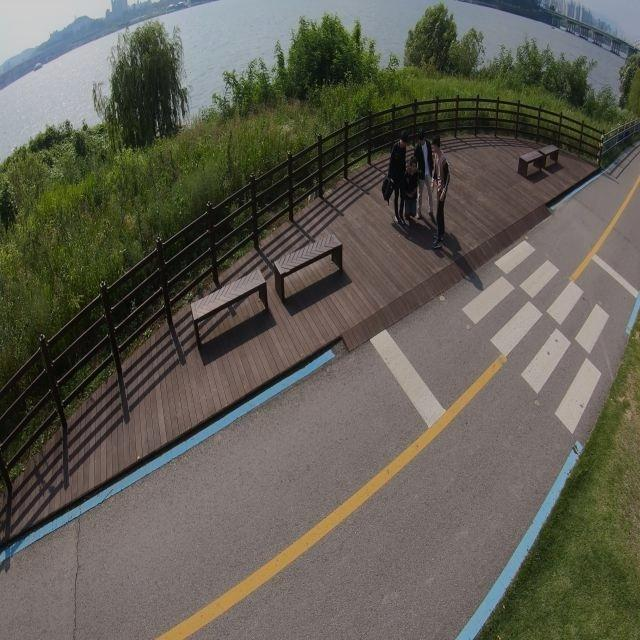fight: (387, 133, 449, 246)
